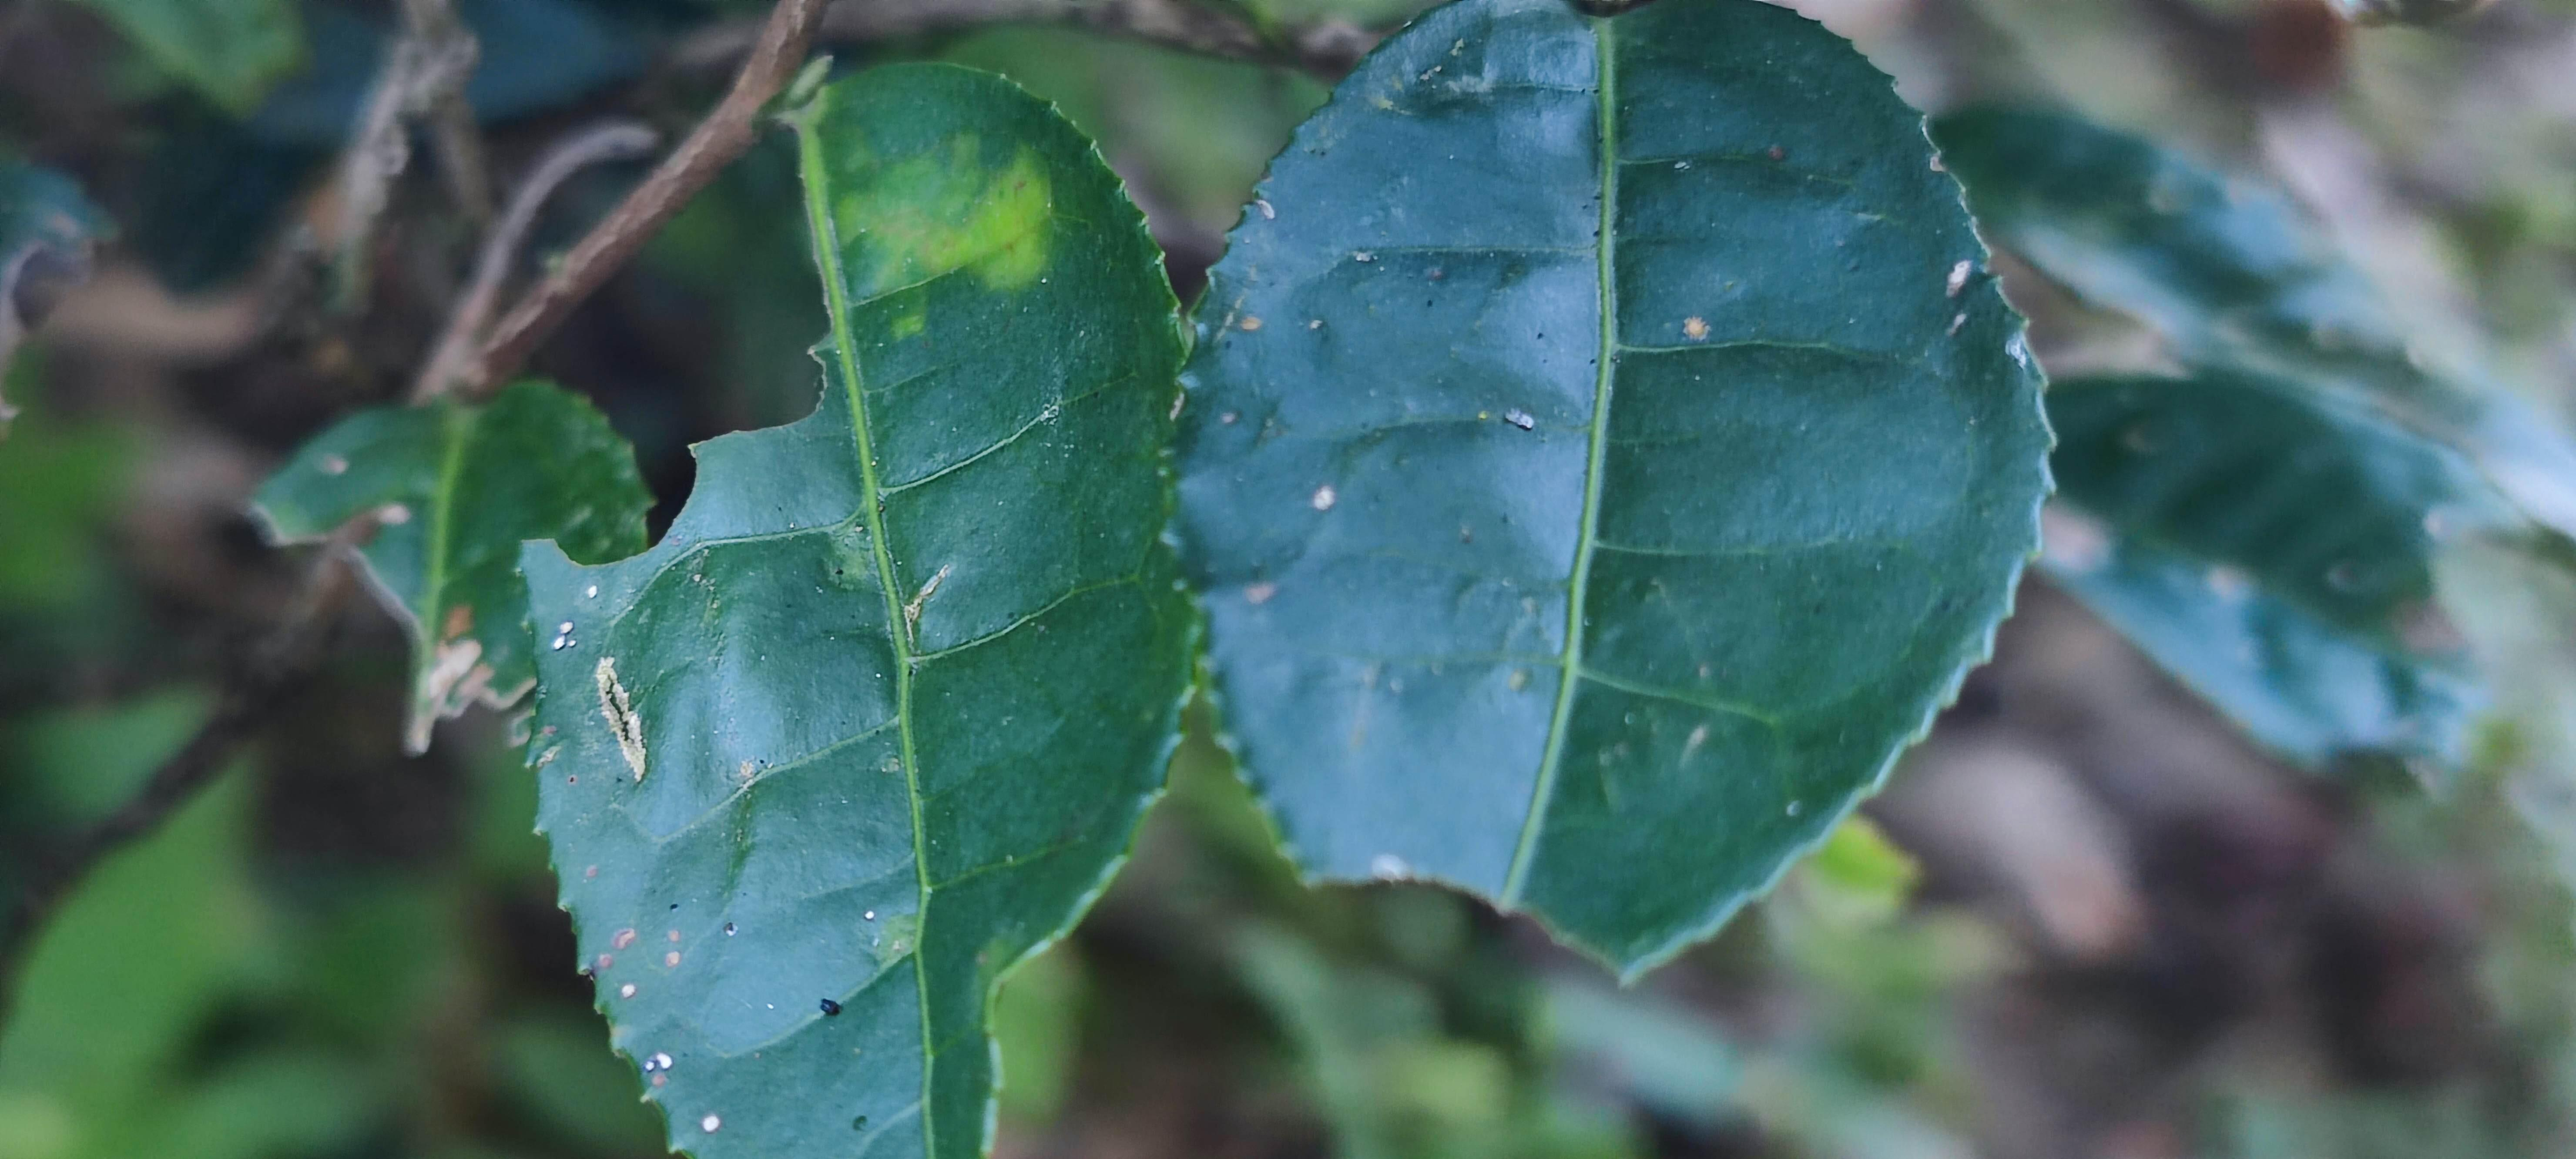chihuo_high: (516, 51, 1199, 1154), (241, 373, 665, 758)
chihuo_low: (1175, 3, 2057, 996)
